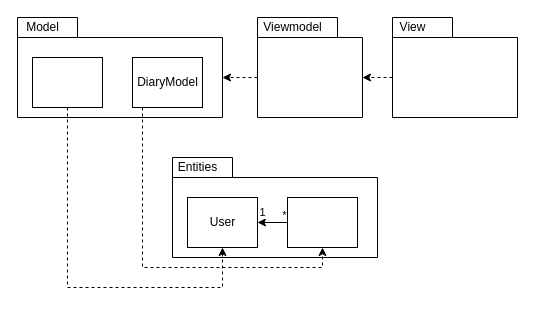
The diagram is 535 pixels wide and 313 high, and some of its shapes have lost their labels. The centre of each missing label's shape, as x and y in pixels:
"Entry" goes at point 322,222.
"UserModel" goes at point 67,82.
